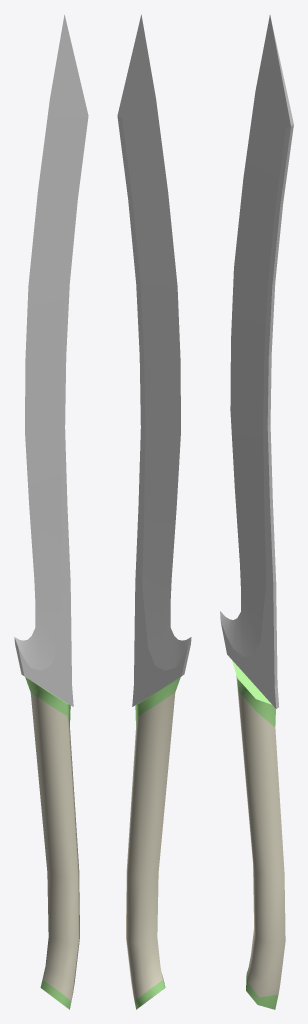
The model's file is elven_sword.glb.
3 views of the same model, side by side, from view 1: azimuth 30°, elevation 25°; view 2: azimuth 150°, elevation 25°; view 3: azimuth 330°, elevation 25° (orthographic).
Visible parts, largest first — view 1: ElvenLongSword; view 2: ElvenLongSword; view 3: ElvenLongSword.
Boxes of the visible parts, x1,y1,x2,y2 form: ElvenLongSword: (14,15,88,1009); ElvenLongSword: (117,14,191,1009); ElvenLongSword: (220,15,293,1009).
Size of the model in its own units: 0.2882 by 3.78 by 0.1211.
